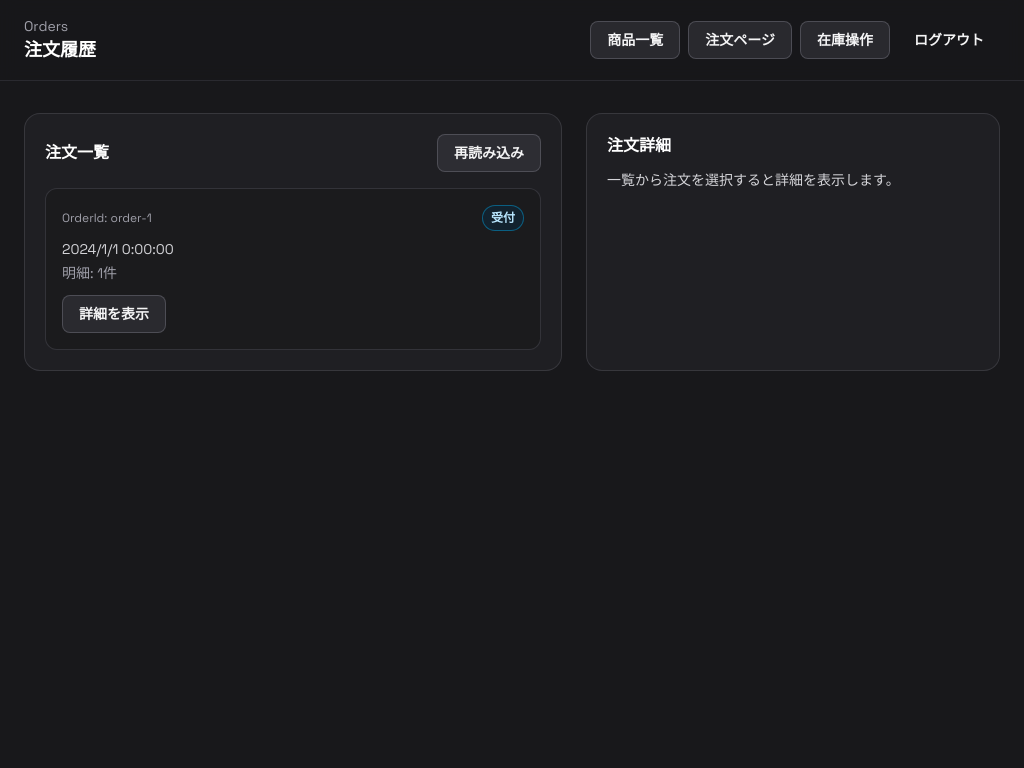
it: OrdersPage - changeOrderStatus › ステータス変更成功後に fetchOrderById が失敗した場合はエラーメッセージが表示される
What coordinates should you click on to do the following:
click the button "詳細を表示"
I would click on:
 (114, 314)
Its box is left=62, top=295, right=166, bottom=333.
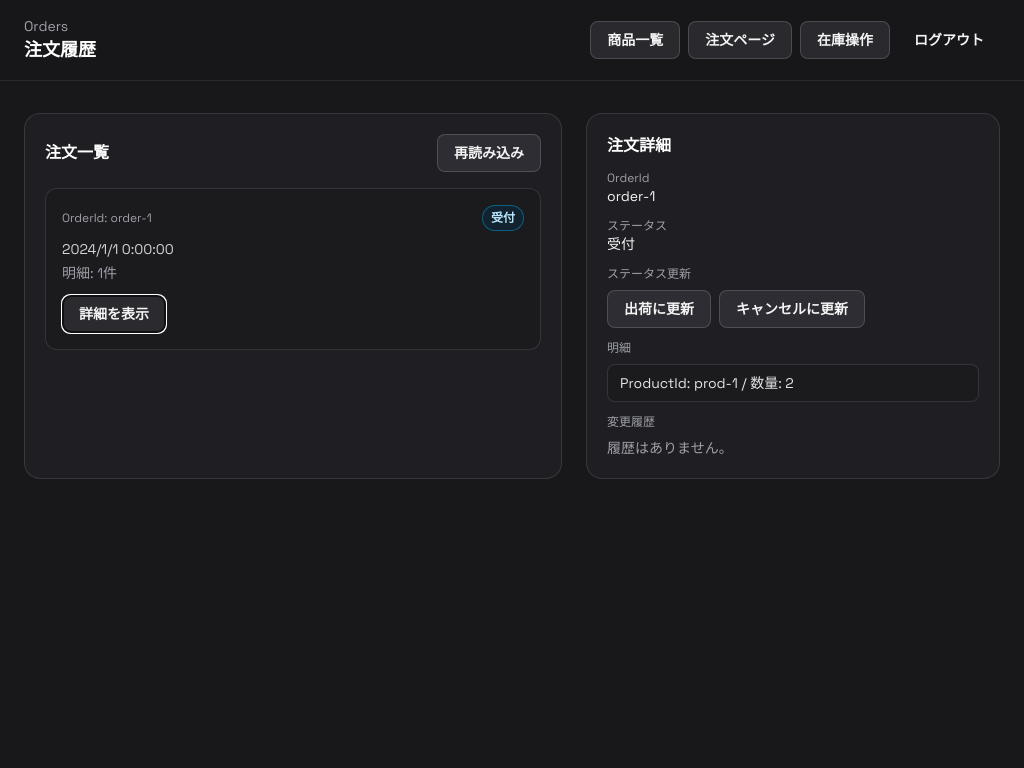
Now the text "ステータス更新" is shown, box left=607, top=266, right=691, bottom=282
What coordinates should you click on to do the following:
click the button "出荷に更新"
I would click on:
 (659, 309)
Its box is left=607, top=290, right=711, bottom=328.
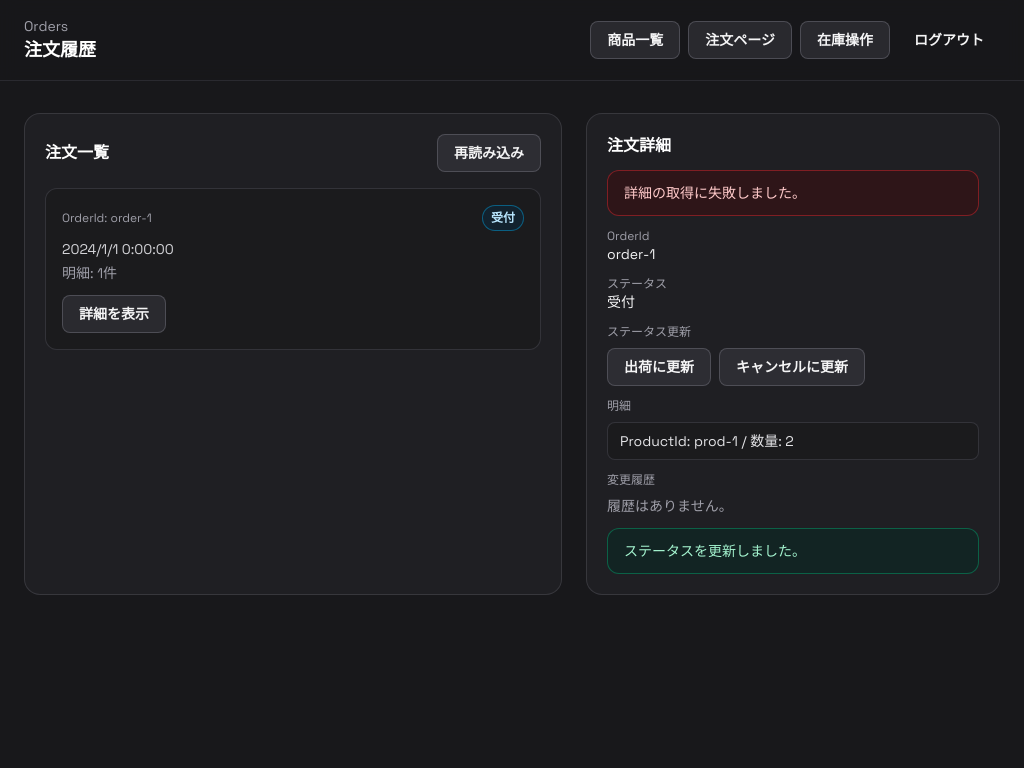
Now the text "詳細の取得に失敗しました。" is shown, box left=607, top=170, right=979, bottom=216
